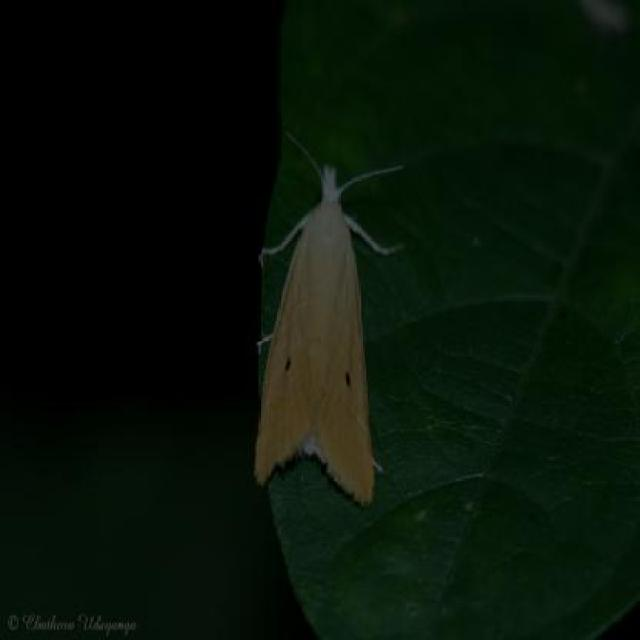stem-borer: (250, 126, 410, 508)
